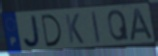A: (129, 7, 155, 43)
D: (40, 14, 64, 49)
I: (90, 10, 102, 45)
J: (22, 14, 43, 50)
K: (64, 13, 85, 45)
Q: (107, 9, 130, 43)
